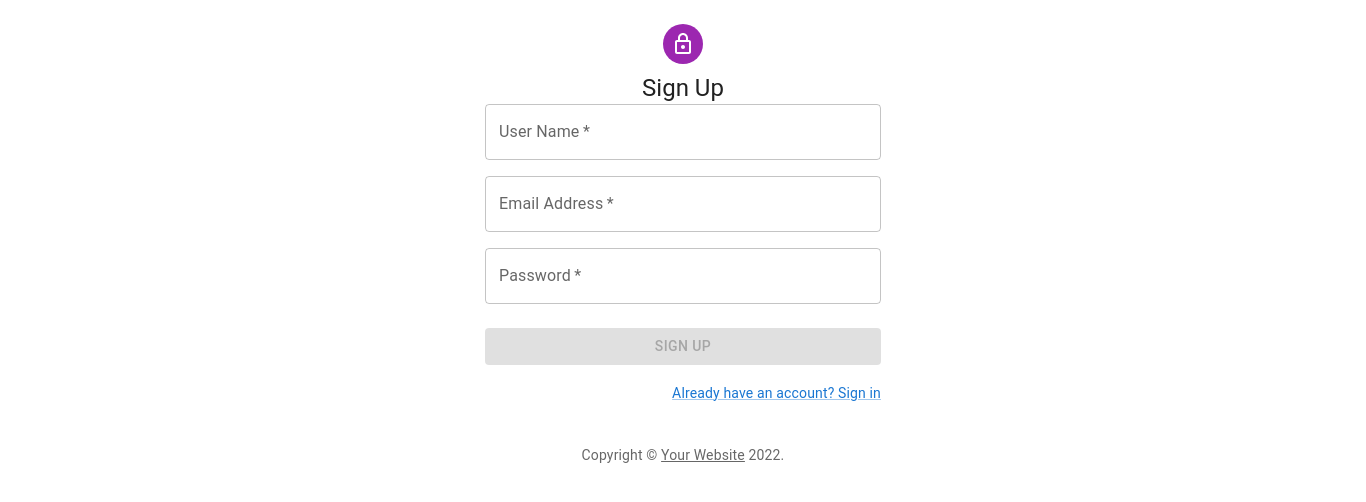
Scenario: components/SignUp › Validations › Should show `Enter a valid email` when falsy email is entered
In the field labelled "Email Address *": (683, 204) [485, 176, 881, 232], type "test@"
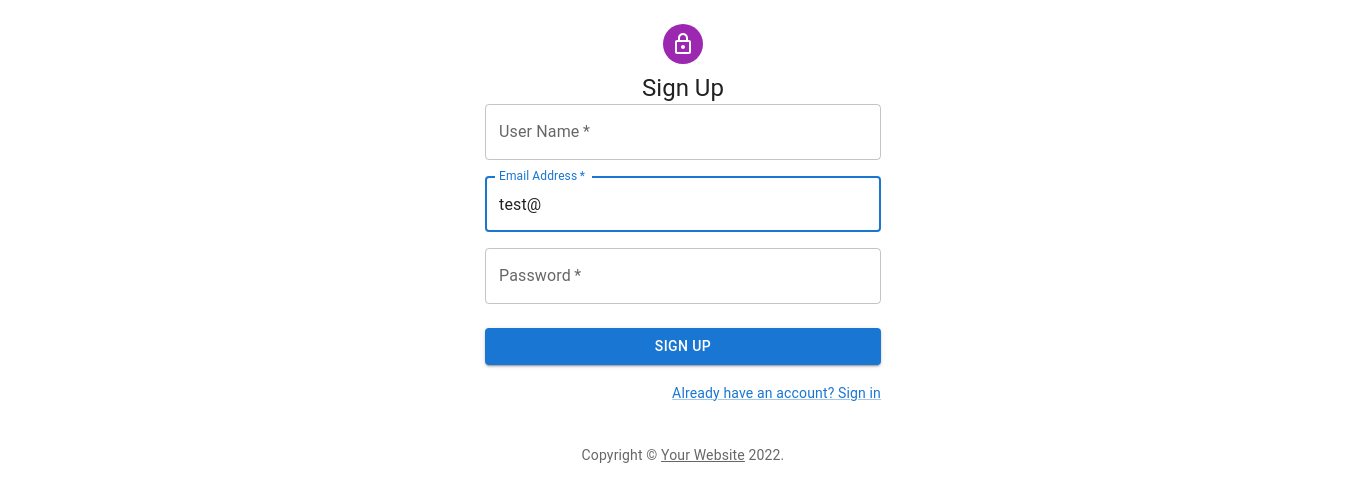
Click the element that starts with "Sign Up": (683, 240) [0, 16, 1365, 464]
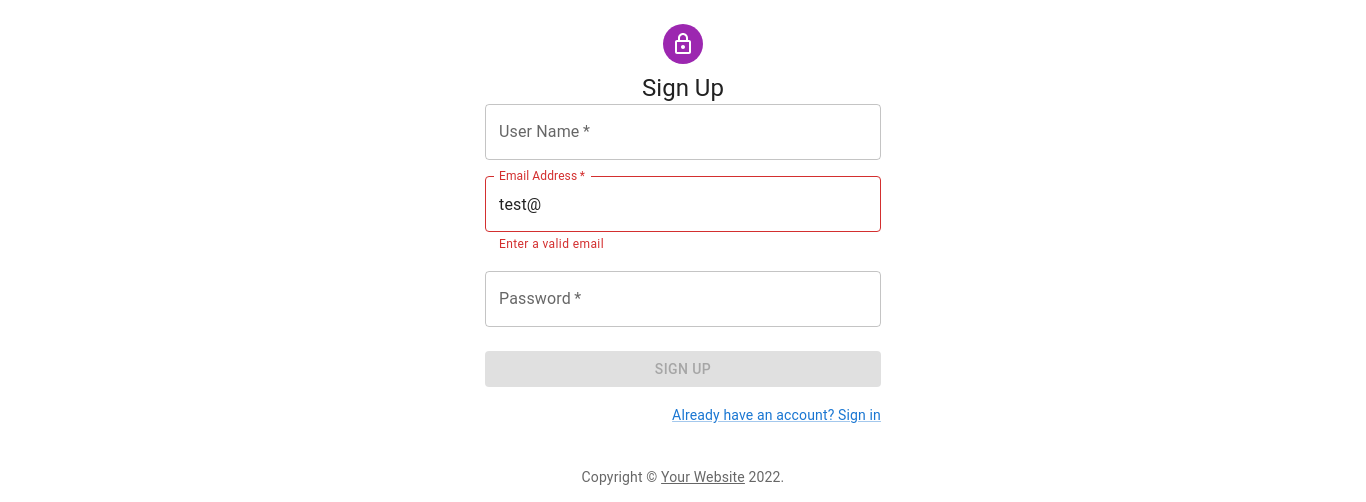
Expected: the text "Enter a valid email" is shown, [499, 237, 604, 251]
